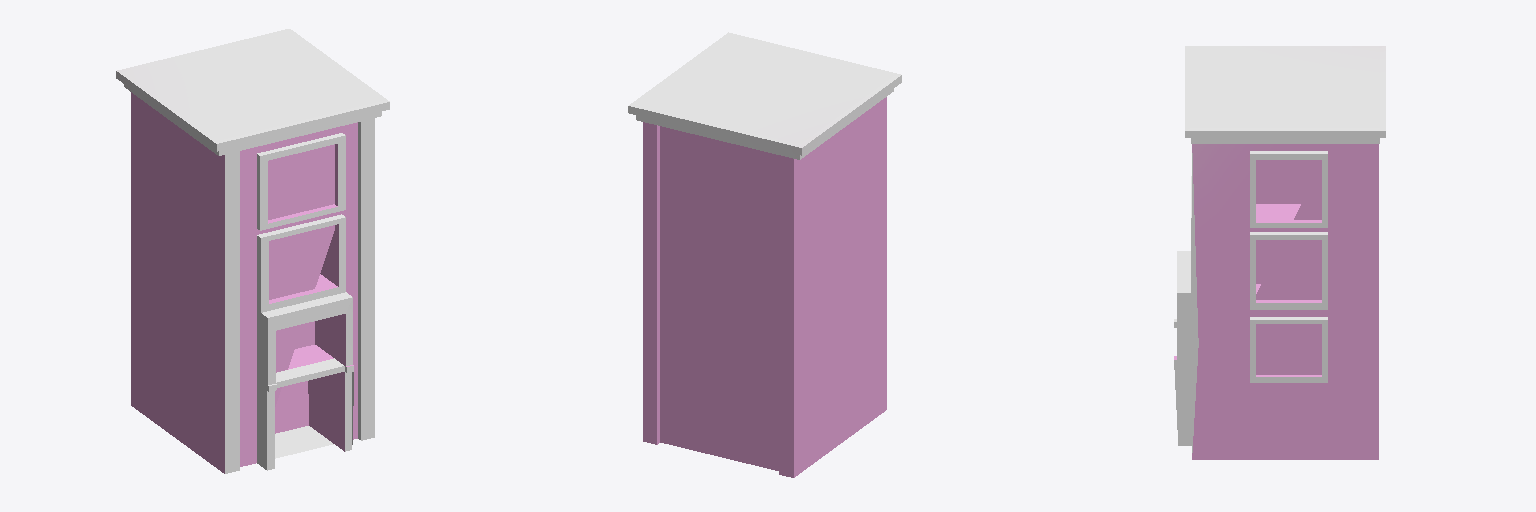
3 renders of one model, left to right at view 1: azimuth 30°, elevation 25°; view 2: azimuth 150°, elevation 25°; view 3: azimuth 270°, elevation 25°, orthographic.
Parts seen in each view (by area): view 1: Cube; view 2: Cube; view 3: Cube.
Boxes of the visible parts, x1,y1,x2,y2 form: Cube: [116, 29, 389, 473]; Cube: [628, 32, 901, 477]; Cube: [1174, 46, 1385, 459].
Size of the model in its own units: 3.22 by 5.95 by 3.4.
1 materials, 1 textured.